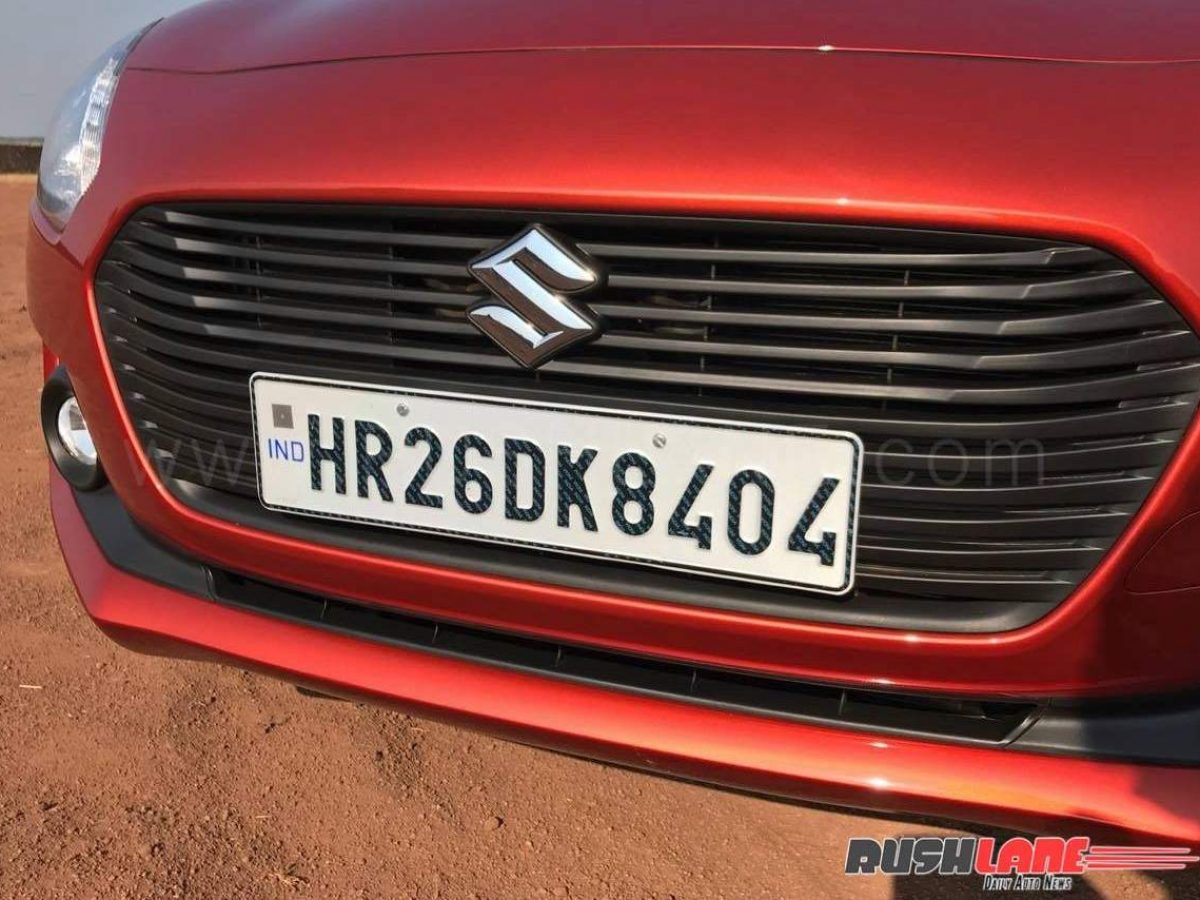numberplate: (242, 369, 860, 596)
